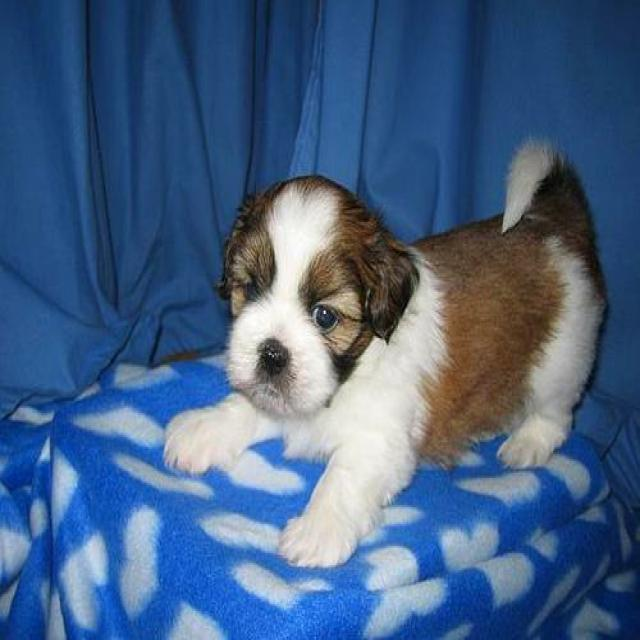shih_tzu: (162, 138, 612, 566)
